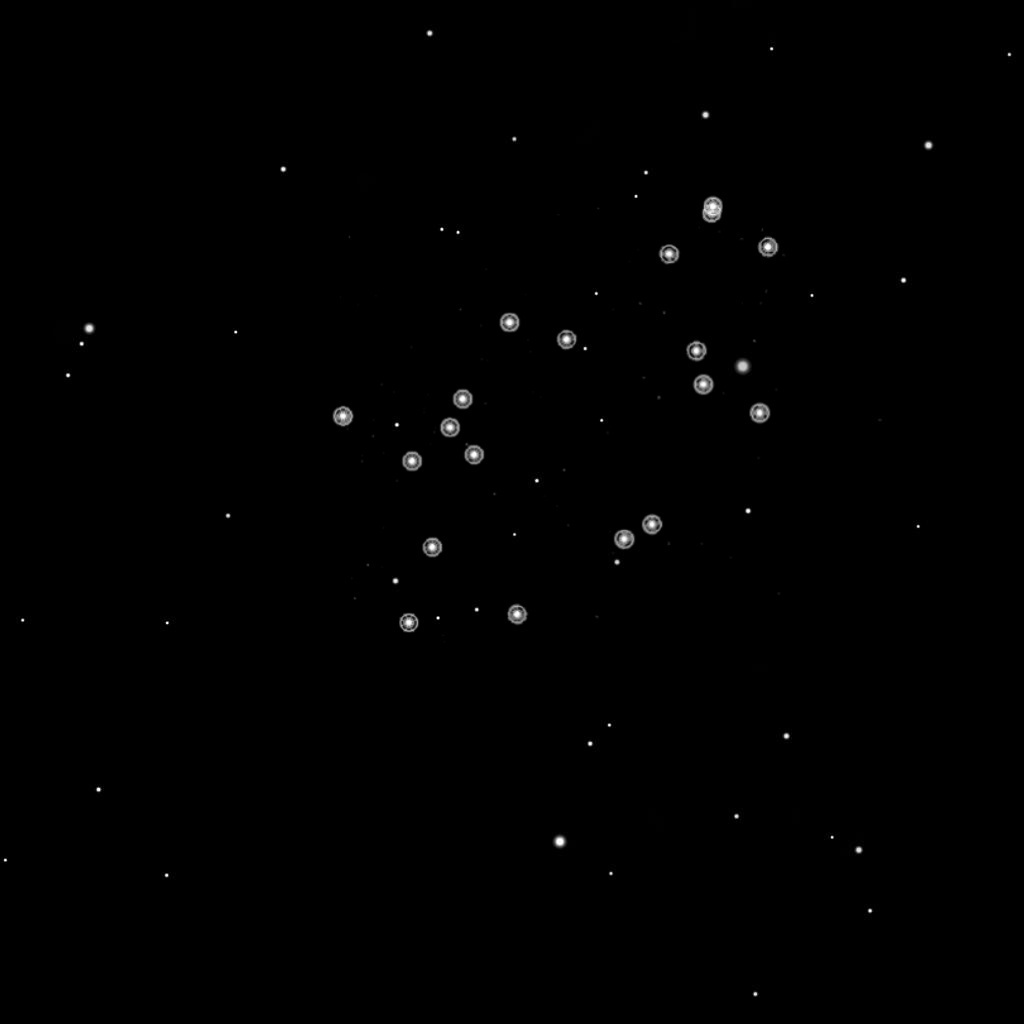canis_major: (396, 309, 583, 481)
